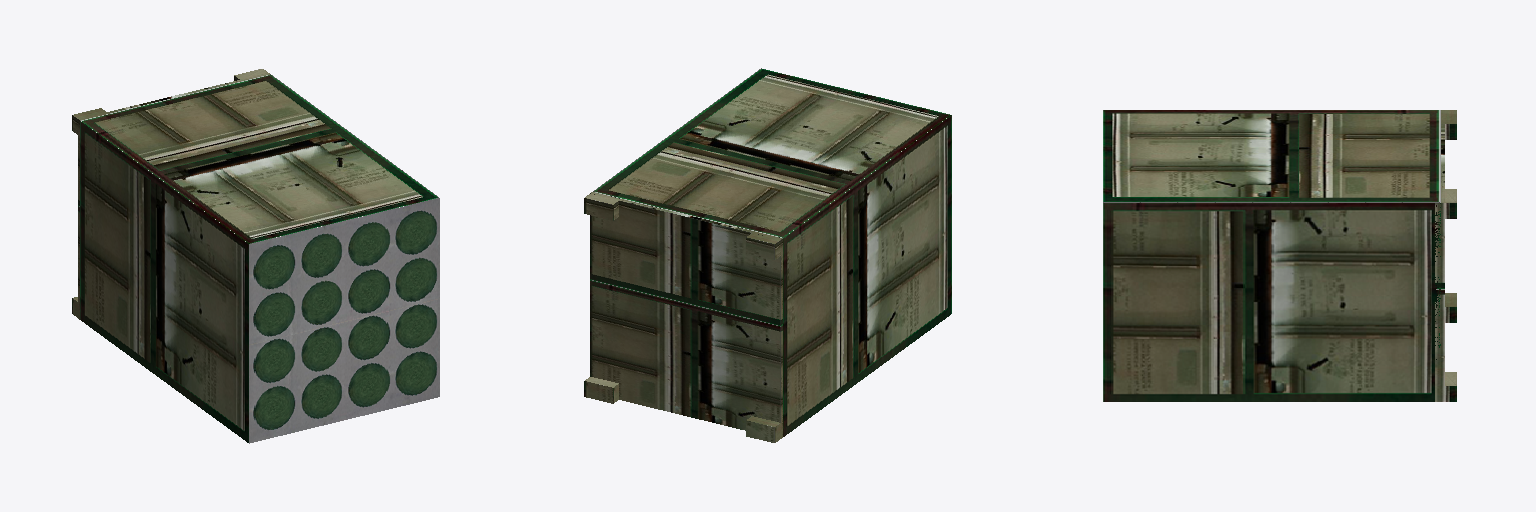
The picture shows the model from 3 angles: view 1: azimuth 30°, elevation 25°; view 2: azimuth 150°, elevation 25°; view 3: azimuth 270°, elevation 25°; orthographic projection.
Parts seen in each view (by area): view 1: Base111, Can111; view 2: Base111, Can111; view 3: Base111, Can111.
Boxes of the visible parts, x1,y1,x2,y2 form: Base111: [80, 74, 439, 443]; Can111: [72, 69, 269, 319]; Base111: [593, 68, 951, 436]; Can111: [584, 192, 782, 442]; Base111: [1103, 110, 1440, 401]; Can111: [1435, 110, 1456, 401].
Size of the model in its own units: 1.09 by 1.09 by 1.75.
2 materials, 2 textured.